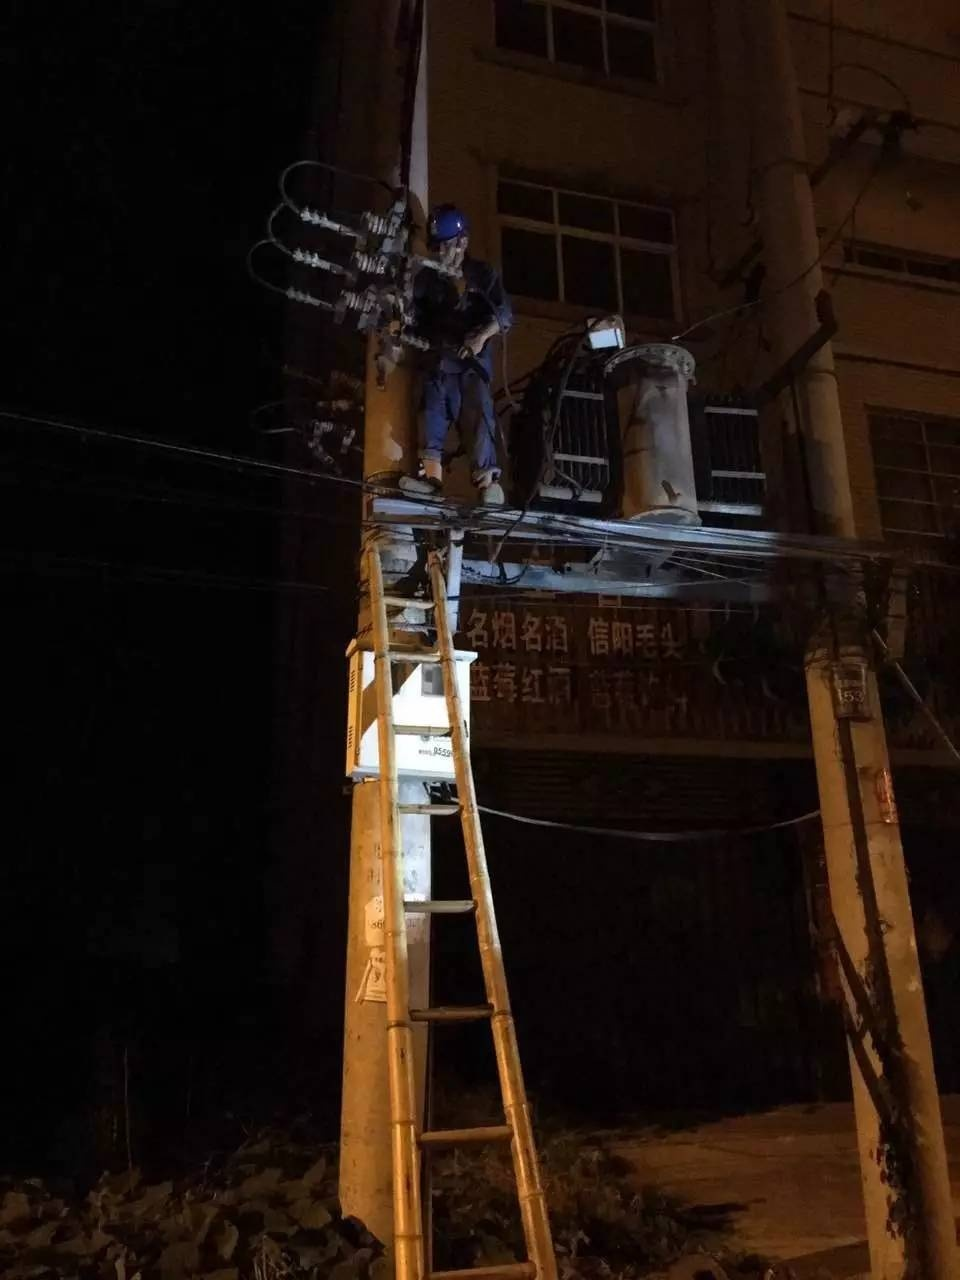blue: (424, 199, 468, 270)
